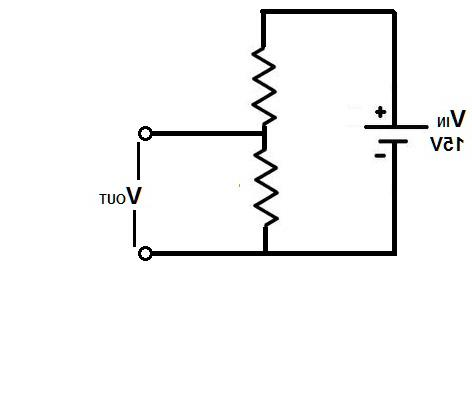resistor: (239, 138, 278, 236), (243, 33, 278, 120)
